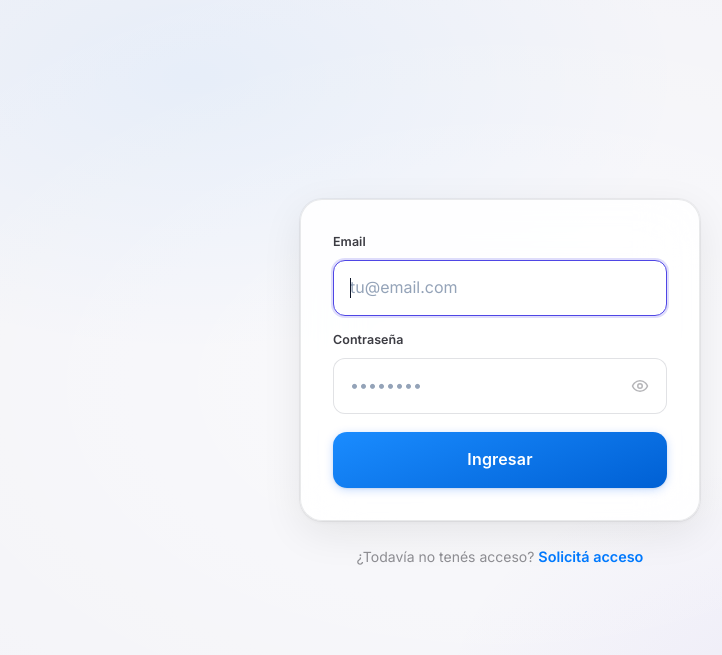
Test: PRE-BETA-2D · PortalLogin › U2b. reenvío que falla → mensaje propio y se puede reintentar
This screenshot has width=722, height=655.
Type "mayorista-qa@example.test" into the field with placeholder "tu@email.com" at (500, 288), box x1=333 y1=260 x2=667 y2=316
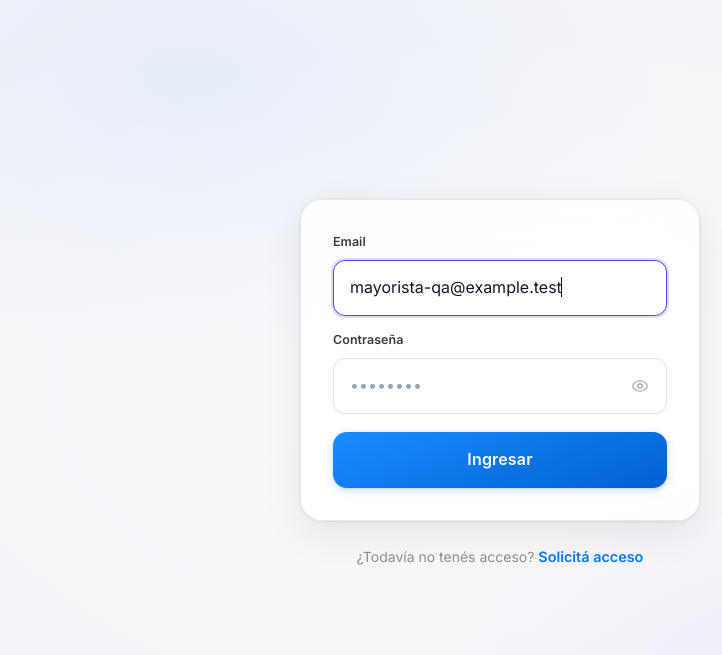
Type "segura-123" into the password field with placeholder "••••••••" at (500, 386), box x1=333 y1=358 x2=667 y2=414
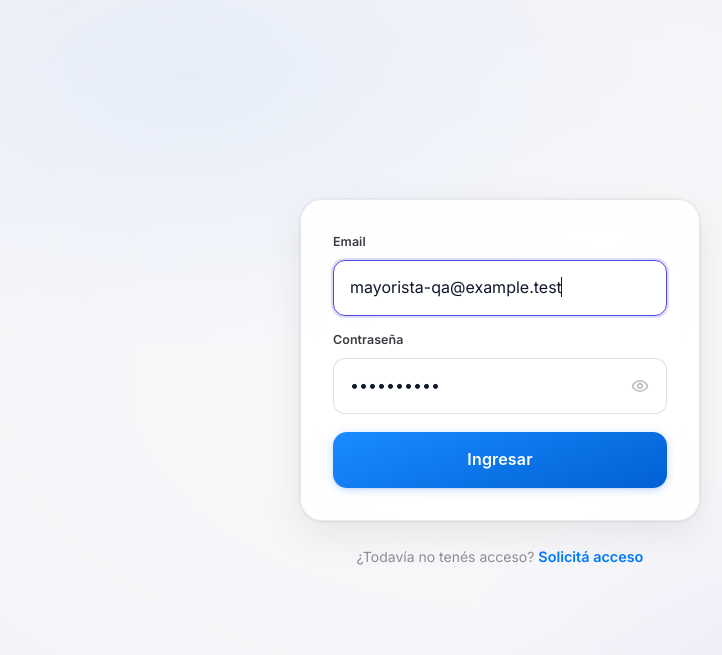
Submit the form, box x1=333 y1=232 x2=667 y2=488
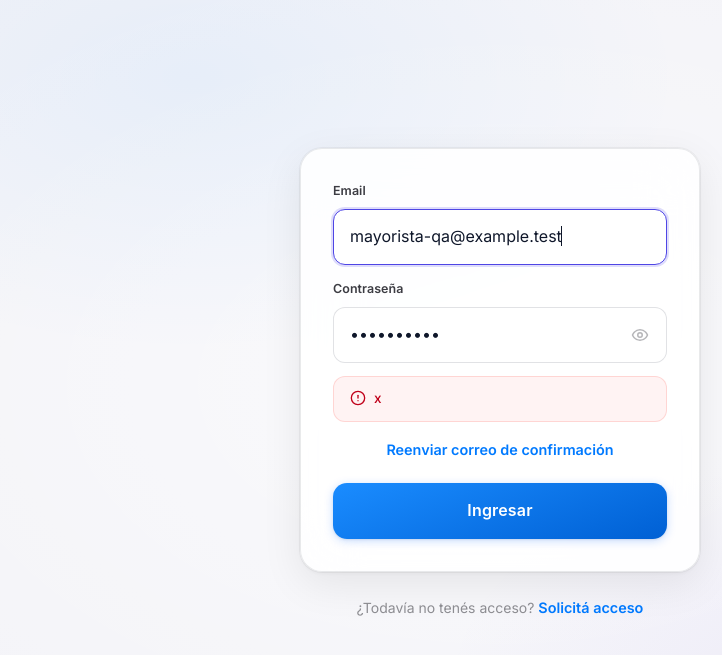
Click the button with test id "portal-login-resend" at (500, 450), box x1=382 y1=436 x2=618 y2=465
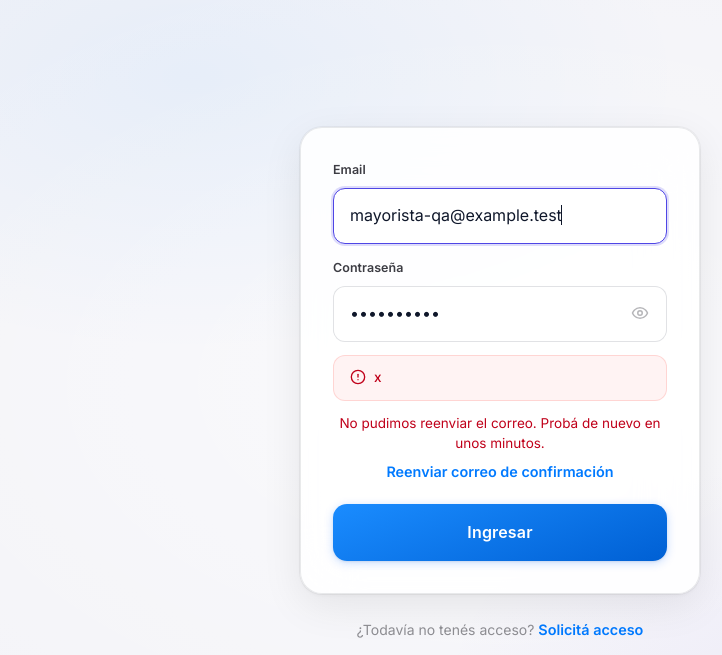
Result: the button with test id "portal-login-resend" is shown at x1=382 y1=458 x2=618 y2=486
Result: the text with test id "portal-login-resend-error" is shown at x1=333 y1=414 x2=667 y2=454
